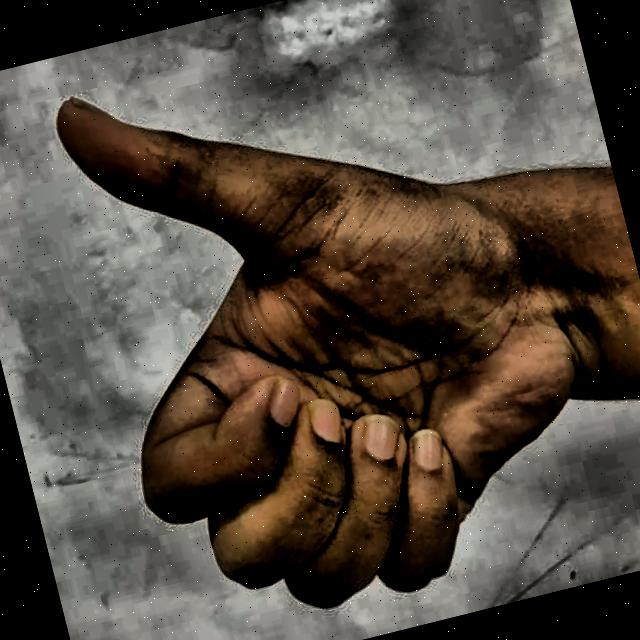Do: (13, 0, 622, 640)
